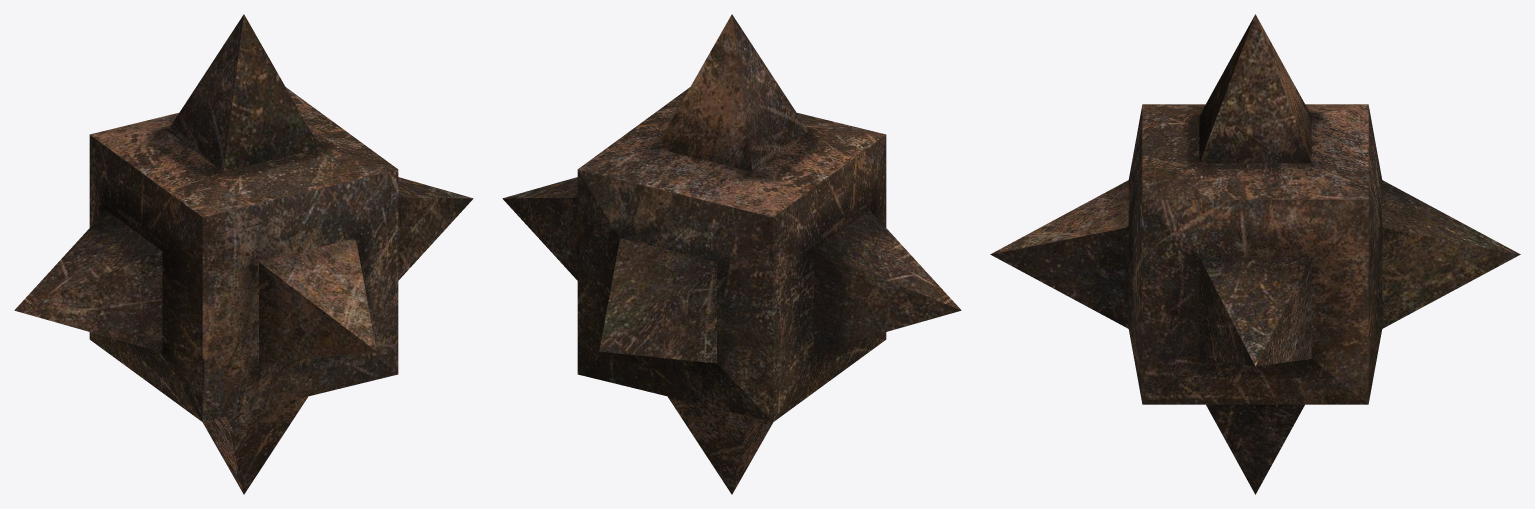
Rendered from pinche.fbx.
The picture shows the model from 3 angles, left to right: view 1: azimuth 30°, elevation 25°; view 2: azimuth 150°, elevation 25°; view 3: azimuth 270°, elevation 25°; orthographic projection.
Parts seen in each view (by area): view 1: Cube; view 2: Cube; view 3: Cube.
Part boxes in pixels (<box>): Cube: <box>14,14,473,494</box>; Cube: <box>502,14,961,494</box>; Cube: <box>990,14,1520,494</box>.
Size of the model in its own units: 570 by 570 by 570.
Materials: 1 (1 with a texture image).
